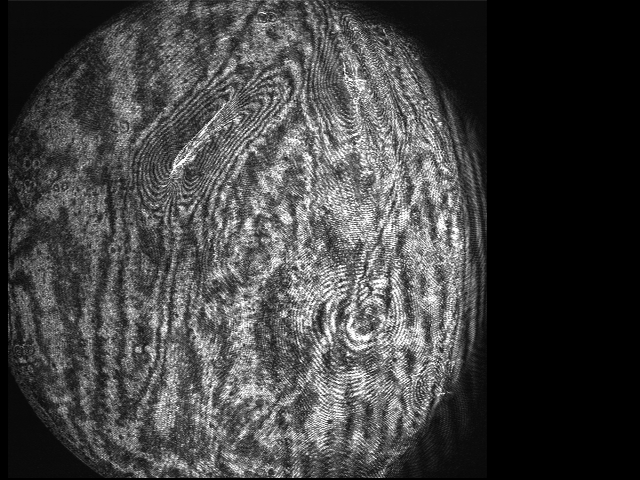plume: (136, 68, 292, 214)
